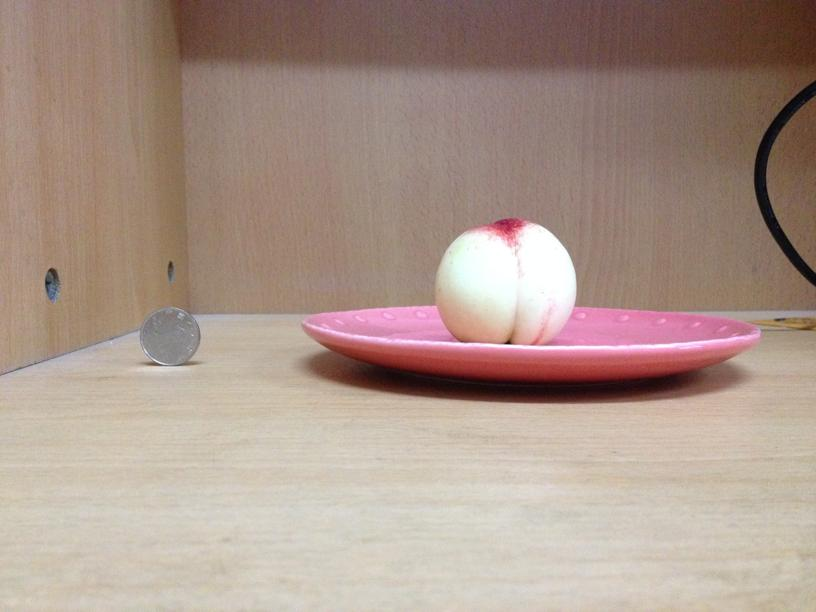coin: (140, 306, 202, 365)
peach: (436, 220, 574, 346)
